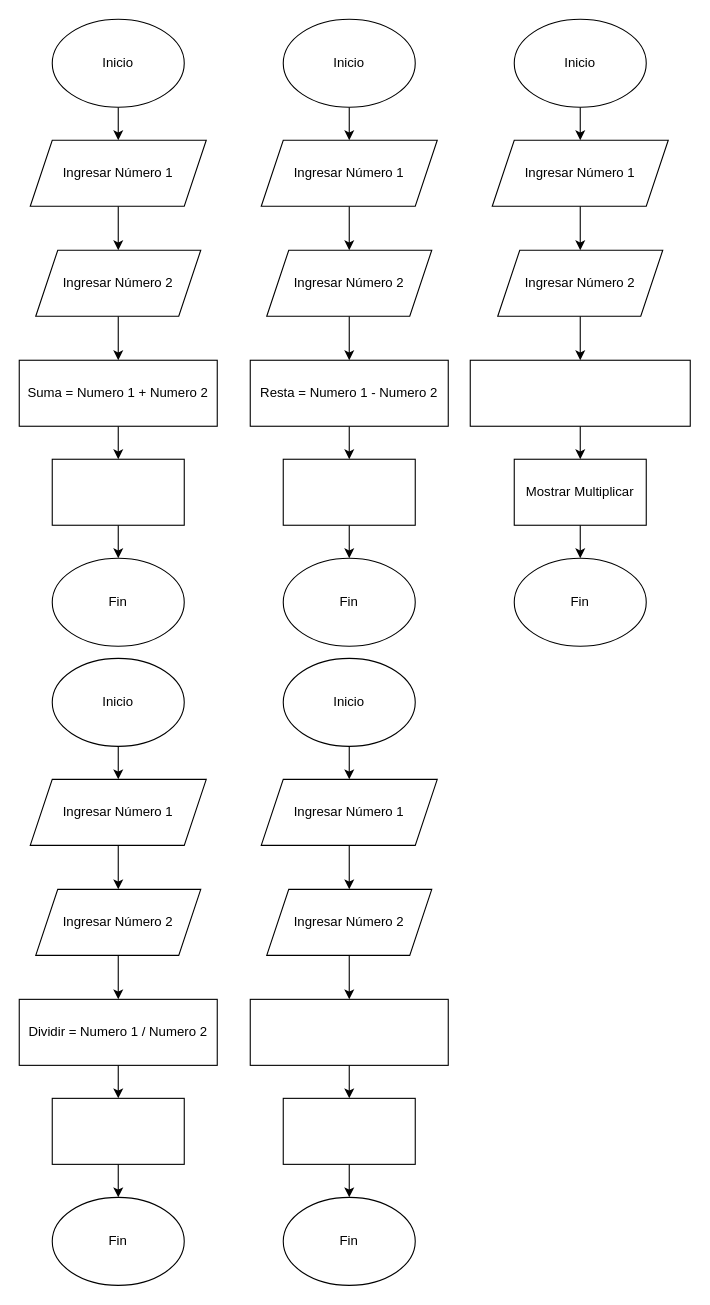
Image size: 710x1305. Some labels were removed from this diagram. Each missing label, with the box of its shape:
Modulo = Numero 1 % Numero 2: (249, 998, 448, 1065)
Mostrar Dividir: (51, 1097, 184, 1164)
Mostrar Modulo: (282, 1097, 415, 1164)
Mostrar Resta: (282, 458, 415, 525)
Mostrar Suma: (51, 458, 184, 525)
Multiplicar = Numero 1 * Numero 2: (469, 359, 690, 426)
